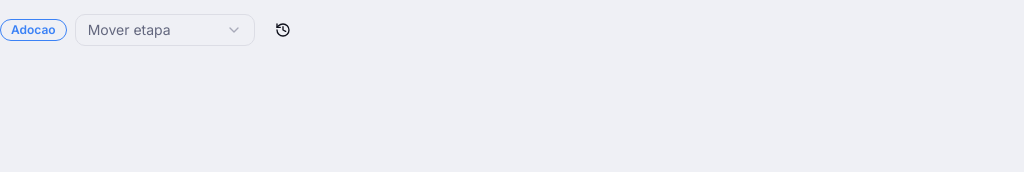
Scenario: AccountJourneyControl › confirma a troca com motivo e recarrega a lista
The width and height of the screenshot is (1024, 172).
// Enter abre o menu do Radix: o jsdom nao dispara pointerdown de verdade.
Press Enter in the dropdown named "Mover Acme", box [75, 14, 255, 46]
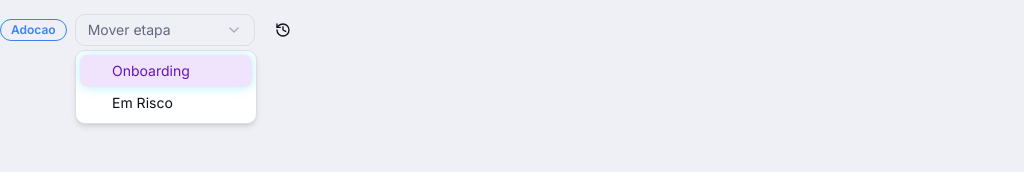
Click the option "Em Risco" at [142, 102], box [112, 94, 173, 111]
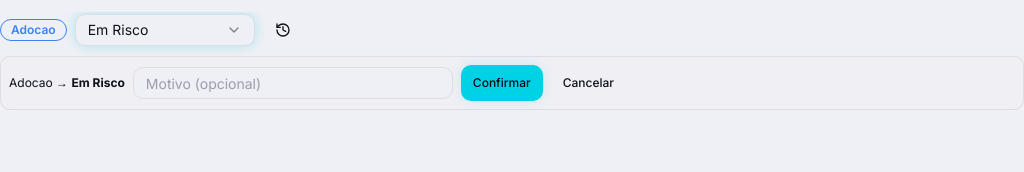
Type "sem uso" into the field named "Motivo da mudanca de etapa" at [293, 83], box [133, 67, 453, 99]
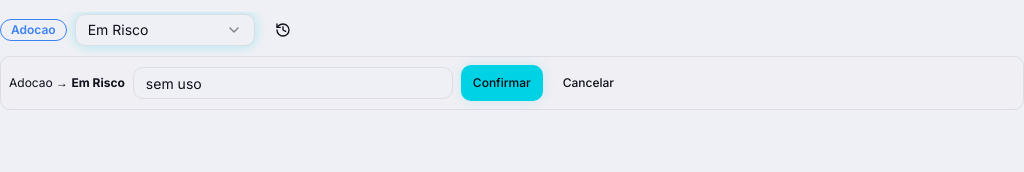
Click the button "Confirmar" at [502, 83], box [461, 65, 543, 101]
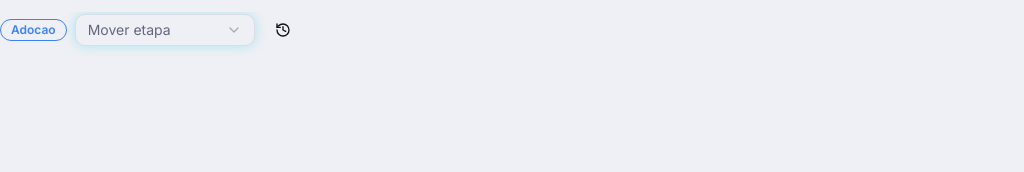
Expected: the button "Confirmar" is gone
